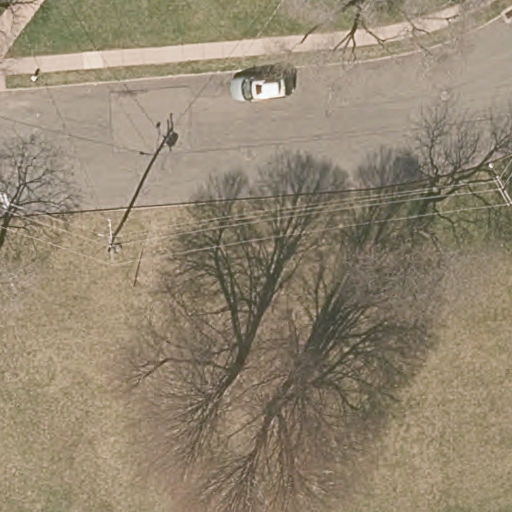DT: (95, 216, 127, 263), (486, 161, 512, 212)
